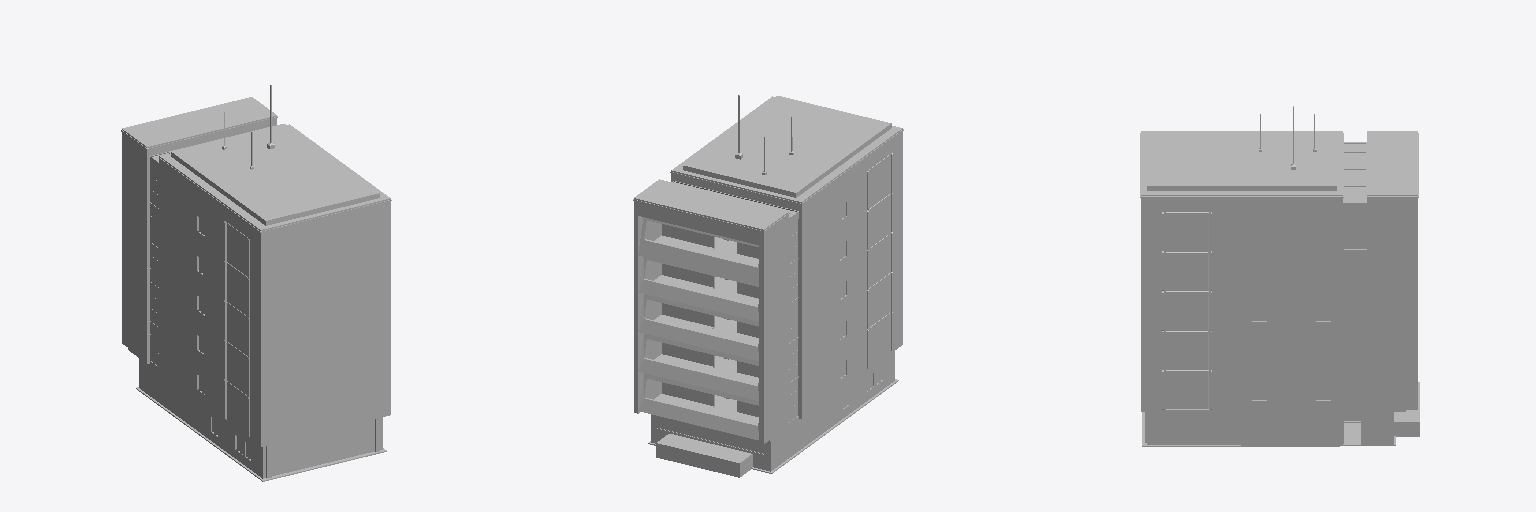
File: Building003.obj
3 renders of one model, left to right at view 1: azimuth 30°, elevation 25°; view 2: azimuth 150°, elevation 25°; view 3: azimuth 270°, elevation 25°, orthographic.
Parts seen in each view (by area): view 1: Residential_Buildings_003_Cube.011; view 2: Residential_Buildings_003_Cube.011; view 3: Residential_Buildings_003_Cube.011.
Boxes of the visible parts, <box> form: Residential_Buildings_003_Cube.011: <box>121,85,391,481</box>; Residential_Buildings_003_Cube.011: <box>633,95,903,477</box>; Residential_Buildings_003_Cube.011: <box>1140,106,1419,446</box>.
Size of the model in its own units: 12.59 by 29.19 by 23.1.